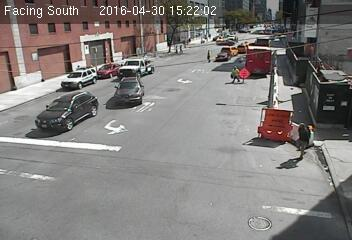neg: (157, 41, 194, 90), (92, 107, 124, 150), (57, 71, 87, 110), (31, 130, 45, 149)
pos: (287, 115, 325, 165), (227, 63, 242, 84), (202, 47, 217, 67), (178, 43, 187, 55)
